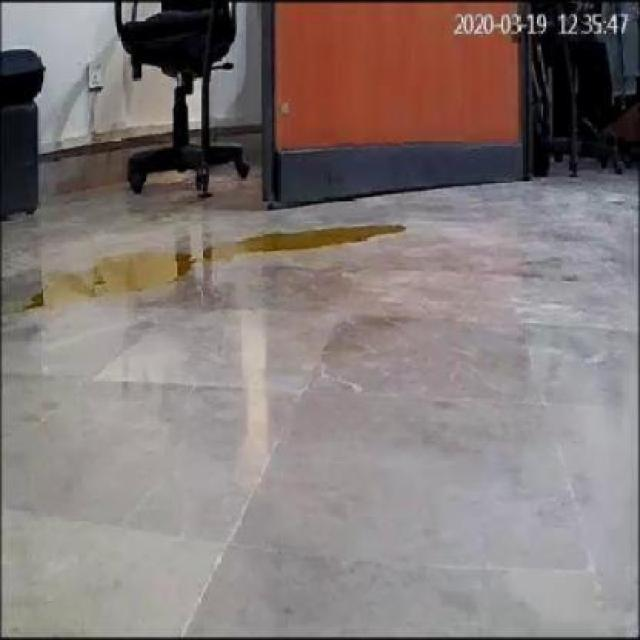spillage: (33, 253, 193, 307), (211, 225, 405, 259)
